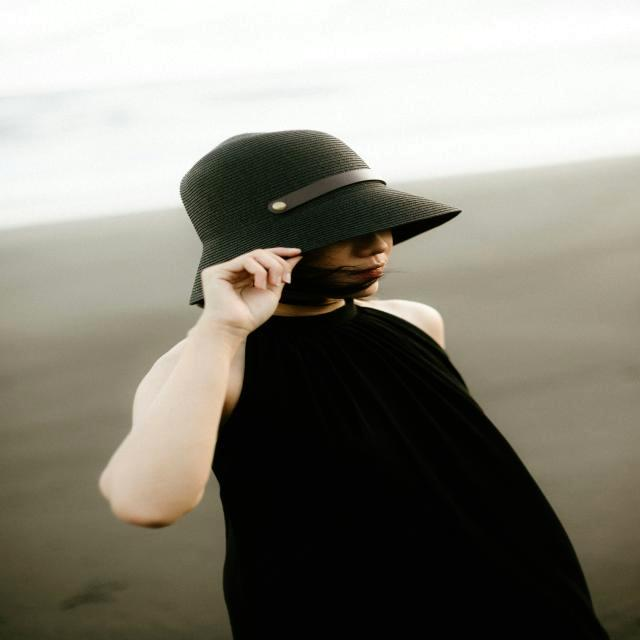no_hard_hat: (180, 130, 461, 305)
person: (100, 130, 609, 640)
